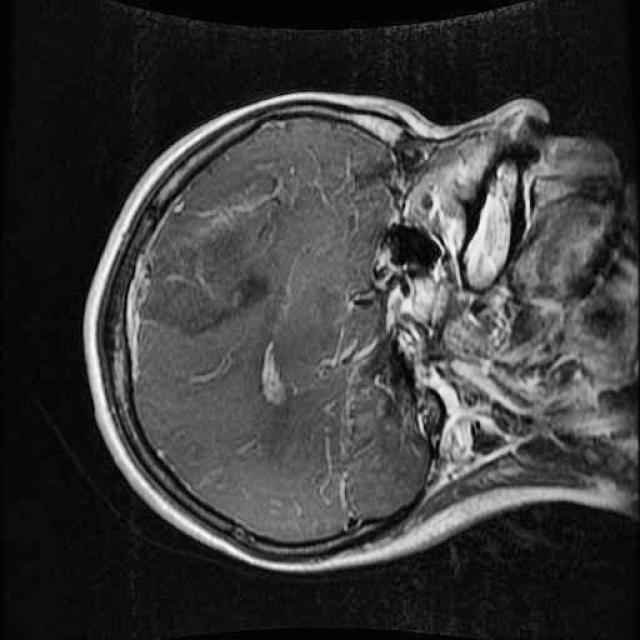Tumor: (132, 198, 279, 352)
